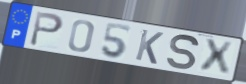0: (66, 19, 97, 54)
5: (101, 21, 133, 61)
K: (133, 27, 165, 66)
P: (27, 10, 65, 48)
S: (166, 33, 201, 71)
X: (199, 37, 235, 77)
